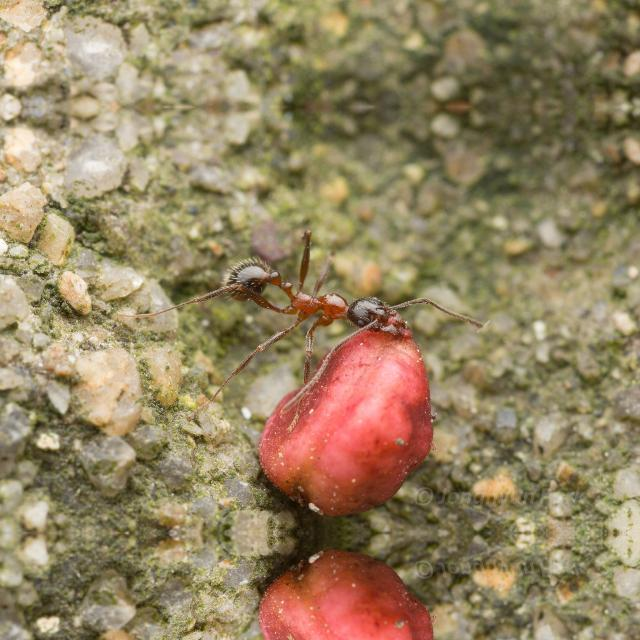Apheanogaster: (202, 243, 438, 354)
